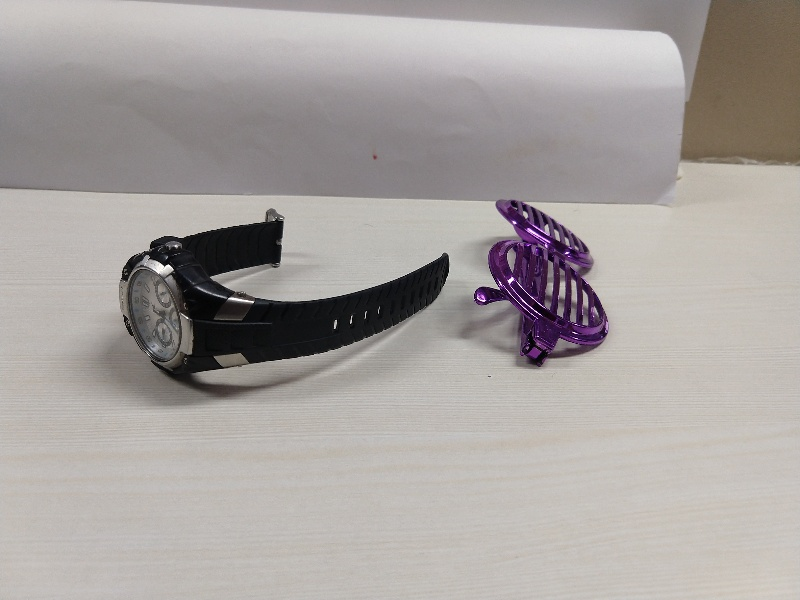shades: (472, 194, 628, 367)
watch: (111, 207, 456, 383)
